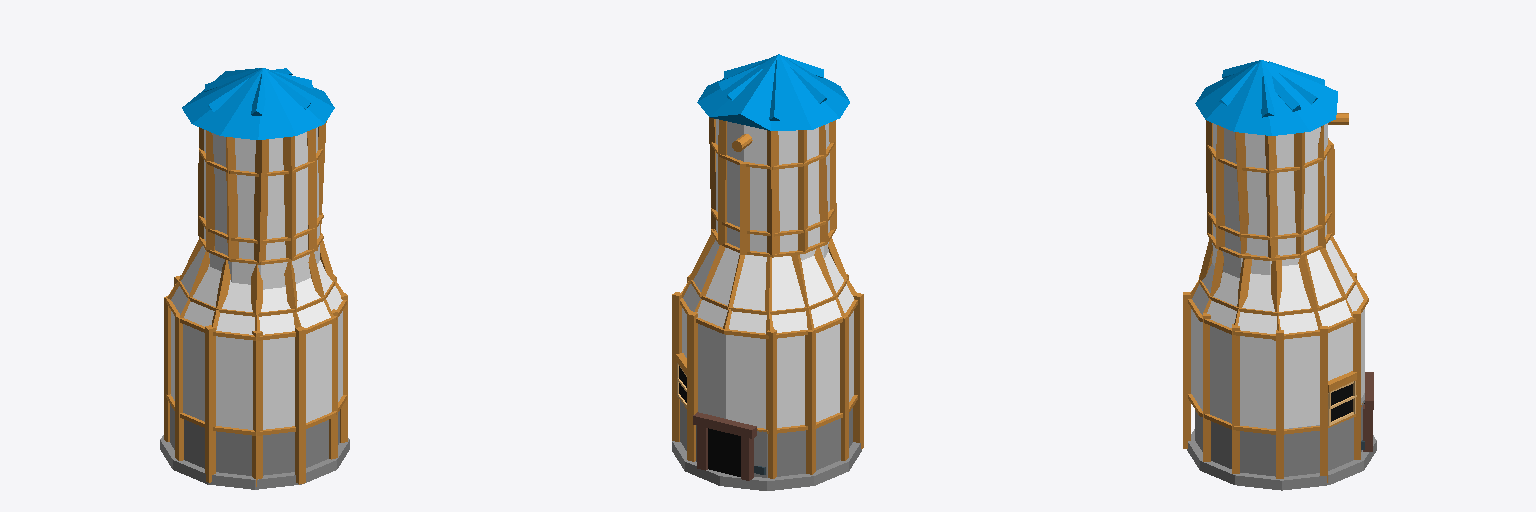
3 renders of one model, left to right at view 1: azimuth 30°, elevation 25°; view 2: azimuth 150°, elevation 25°; view 3: azimuth 270°, elevation 25°, orthographic.
Visible parts, largest first — view 1: group[number redacted], group[number redacted], group[number redacted], group[number redacted], group[number redacted], group[number redacted], group[number redacted], group[number redacted], group[number redacted], group[number redacted], group[number redacted], group[number redacted] (+10 smaller); view 2: group[number redacted], group[number redacted], group[number redacted], group[number redacted], group[number redacted], group[number redacted], group[number redacted], group[number redacted], group[number redacted], group[number redacted], group[number redacted], group[number redacted] (+12 smaller); view 3: group[number redacted], group[number redacted], group[number redacted], group[number redacted], group[number redacted], group[number redacted], group[number redacted], group[number redacted], group[number redacted], group[number redacted], group[number redacted], group[number redacted] (+13 smaller).
Part boxes in pixels (bbox=[...]): group[number redacted]: bbox=[171, 311, 342, 429]; group[number redacted]: bbox=[203, 127, 319, 289]; group[number redacted]: bbox=[182, 68, 334, 139]; group[number redacted]: bbox=[171, 246, 342, 334]; group[number redacted]: bbox=[170, 404, 339, 475]; group[number redacted]: bbox=[160, 435, 349, 489]; group[number redacted]: bbox=[295, 327, 305, 484]; group[number redacted]: bbox=[205, 325, 215, 482]; group[number redacted]: bbox=[254, 139, 268, 262]; group[number redacted]: bbox=[252, 331, 262, 486]; group[number redacted]: bbox=[283, 136, 295, 259]; group[number redacted]: bbox=[226, 137, 238, 259]; group[number redacted]: bbox=[682, 308, 853, 428]; group[number redacted]: bbox=[683, 240, 853, 333]; group[number redacted]: bbox=[716, 119, 829, 260]; group[number redacted]: bbox=[697, 54, 849, 130]; group[number redacted]: bbox=[680, 400, 852, 477]; group[number redacted]: bbox=[672, 441, 861, 490]; group[number redacted]: bbox=[766, 329, 776, 478]; group[number redacted]: bbox=[687, 311, 697, 461]; group[number redacted]: bbox=[805, 330, 815, 474]; group[number redacted]: bbox=[853, 293, 863, 448]; group[number redacted]: bbox=[767, 130, 779, 254]; group[number redacted]: bbox=[708, 428, 740, 476]; group[number redacted]: bbox=[1191, 309, 1364, 428]; group[number redacted]: bbox=[1212, 123, 1327, 277]; group[number redacted]: bbox=[1192, 240, 1363, 333]; group[number redacted]: bbox=[1195, 60, 1337, 135]; group[number redacted]: bbox=[1195, 393, 1364, 476]; group[number redacted]: bbox=[1187, 429, 1376, 490]; group[number redacted]: bbox=[1265, 135, 1277, 257]; group[number redacted]: bbox=[1320, 326, 1327, 482]; group[number redacted]: bbox=[1183, 292, 1190, 448]; group[number redacted]: bbox=[1276, 330, 1283, 478]; group[number redacted]: bbox=[1232, 324, 1239, 473]; group[number redacted]: bbox=[1294, 132, 1304, 254].
Size of the model in its own units: 0.47 by 1.07 by 0.48.